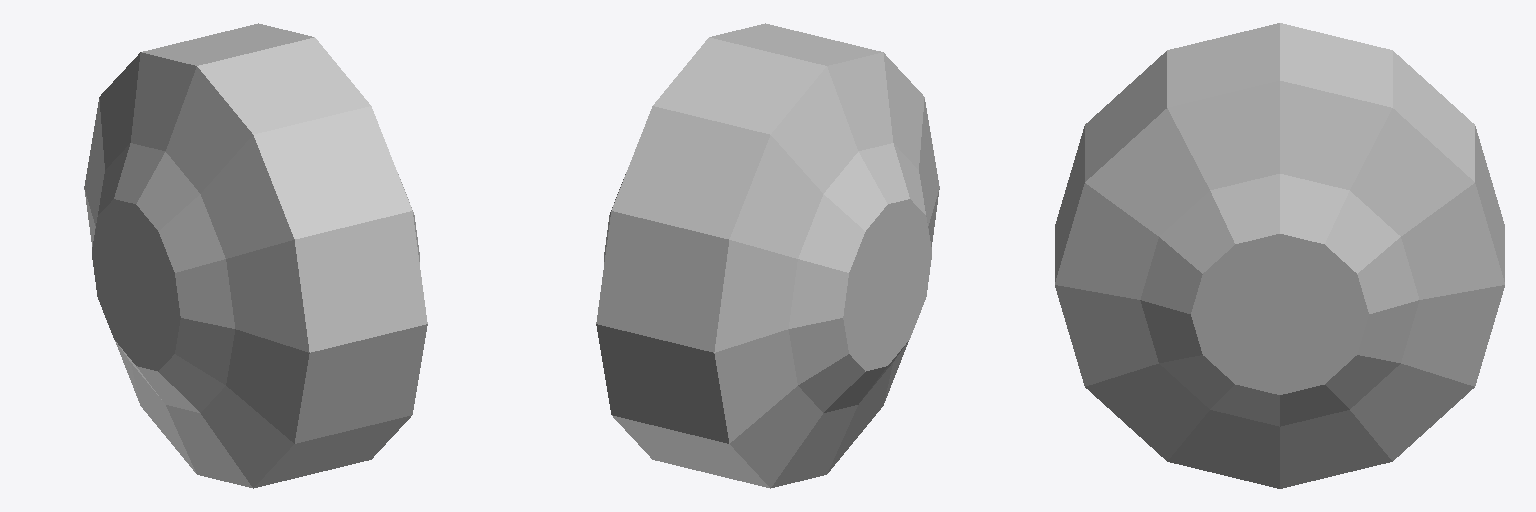
The model's file is rearwheels.obj.
The picture shows the model from 3 angles: view 1: azimuth 30°, elevation 25°; view 2: azimuth 150°, elevation 25°; view 3: azimuth 270°, elevation 25°; orthographic projection.
Visible parts, largest first — view 1: Box01_sep5; view 2: Box01_sep5; view 3: Box01_sep5.
Boxes of the visible parts, <box> form: Box01_sep5: <box>84,23,427,488</box>; Box01_sep5: <box>596,23,939,488</box>; Box01_sep5: <box>1055,23,1504,488</box>.
Size of the model in its own units: 2 by 3.26 by 3.26.